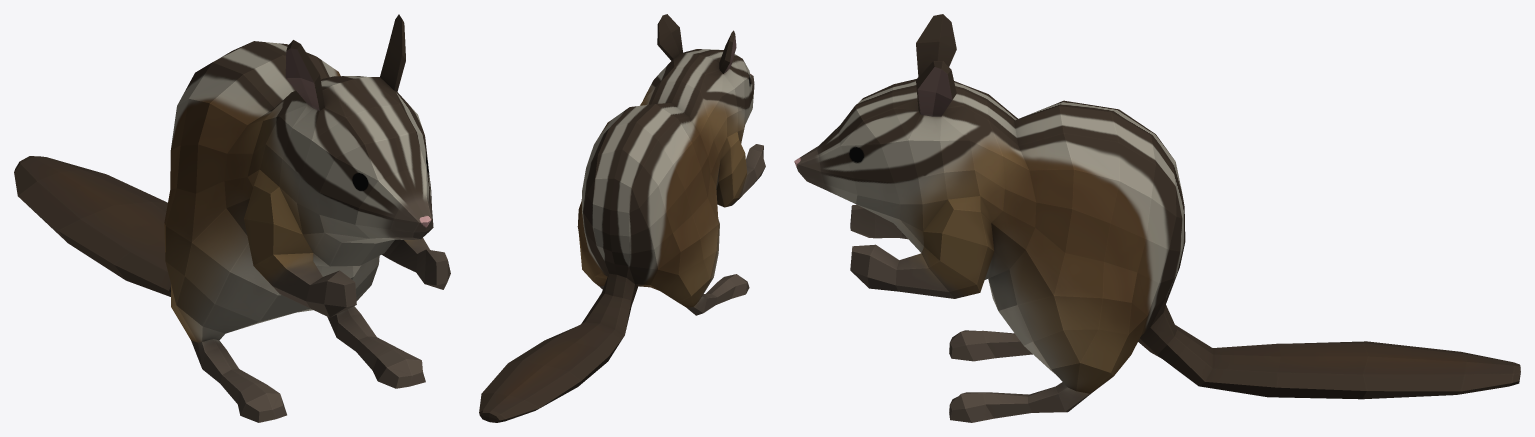
File: 9d3ba8b5-dcf2-41ce-a3f7-66c435d9916d.glb
The picture shows the model from 3 angles, left to right: view 1: azimuth 30°, elevation 25°; view 2: azimuth 150°, elevation 25°; view 3: azimuth 270°, elevation 25°; orthographic projection. The views are drawn at different scales.
Visible parts, largest first — view 1: PanamintChipmuck_Mesh; view 2: PanamintChipmuck_Mesh; view 3: PanamintChipmuck_Mesh.
Part boxes in pixels (<box>): PanamintChipmuck_Mesh: <box>14,14,450,422</box>; PanamintChipmuck_Mesh: <box>479,14,765,422</box>; PanamintChipmuck_Mesh: <box>794,14,1520,422</box>.
Bounding box in the file's own units: 0.7994 × 1.51 × 2.89.
Materials: 1 (1 with a texture image).
